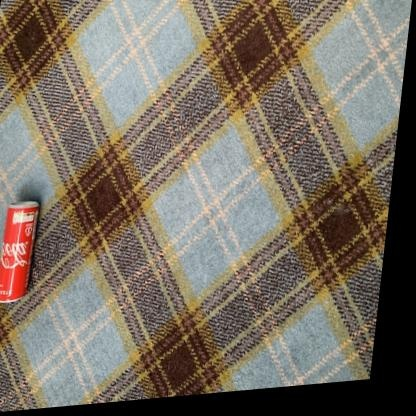trash: (0, 201, 38, 302)
